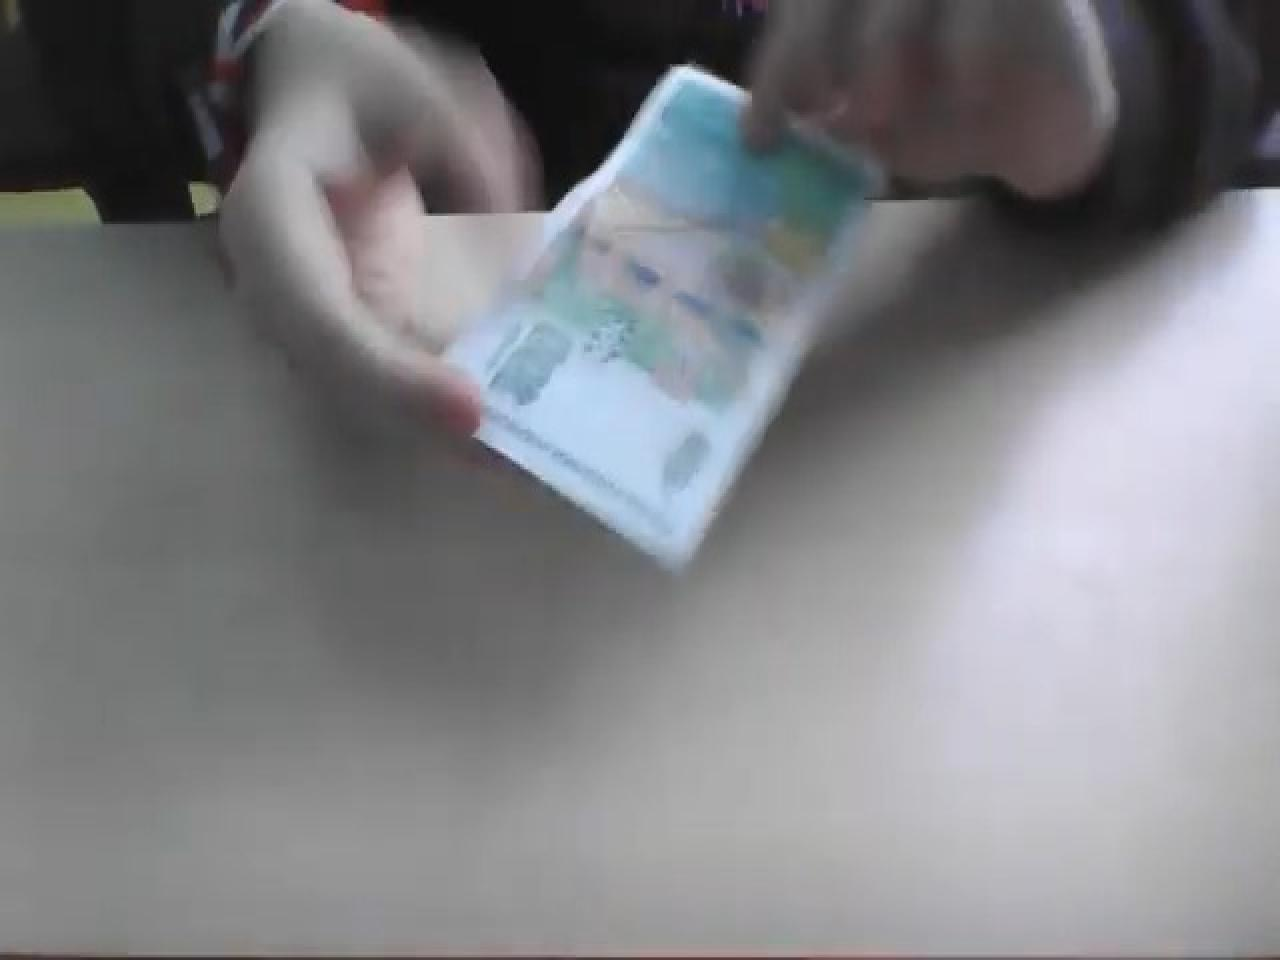100leva: (436, 58, 888, 571)
